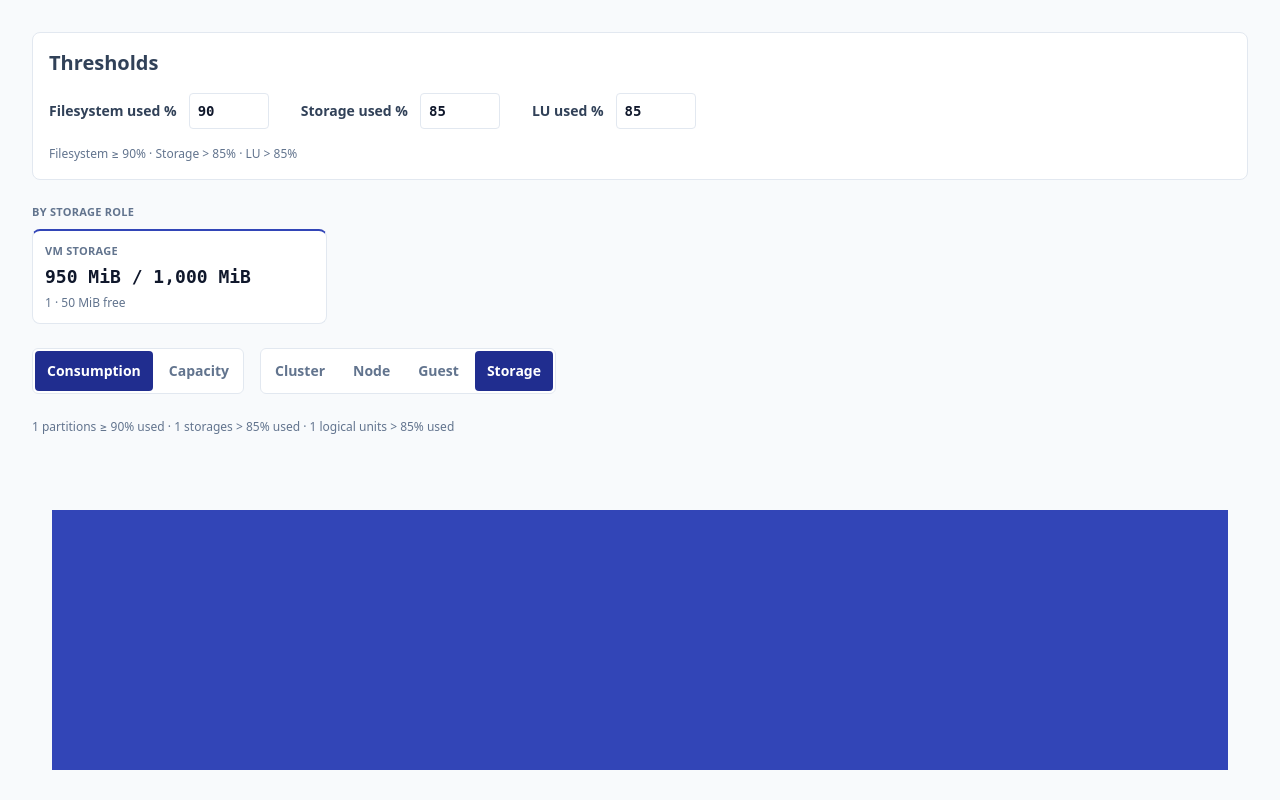
StorageView (D-05..D-08) › editing a threshold updates the factual count line (no second useMemo)
Replace the text in the number field labelled "Filesystem used %" with "50": (229, 111) [189,93,269,129]
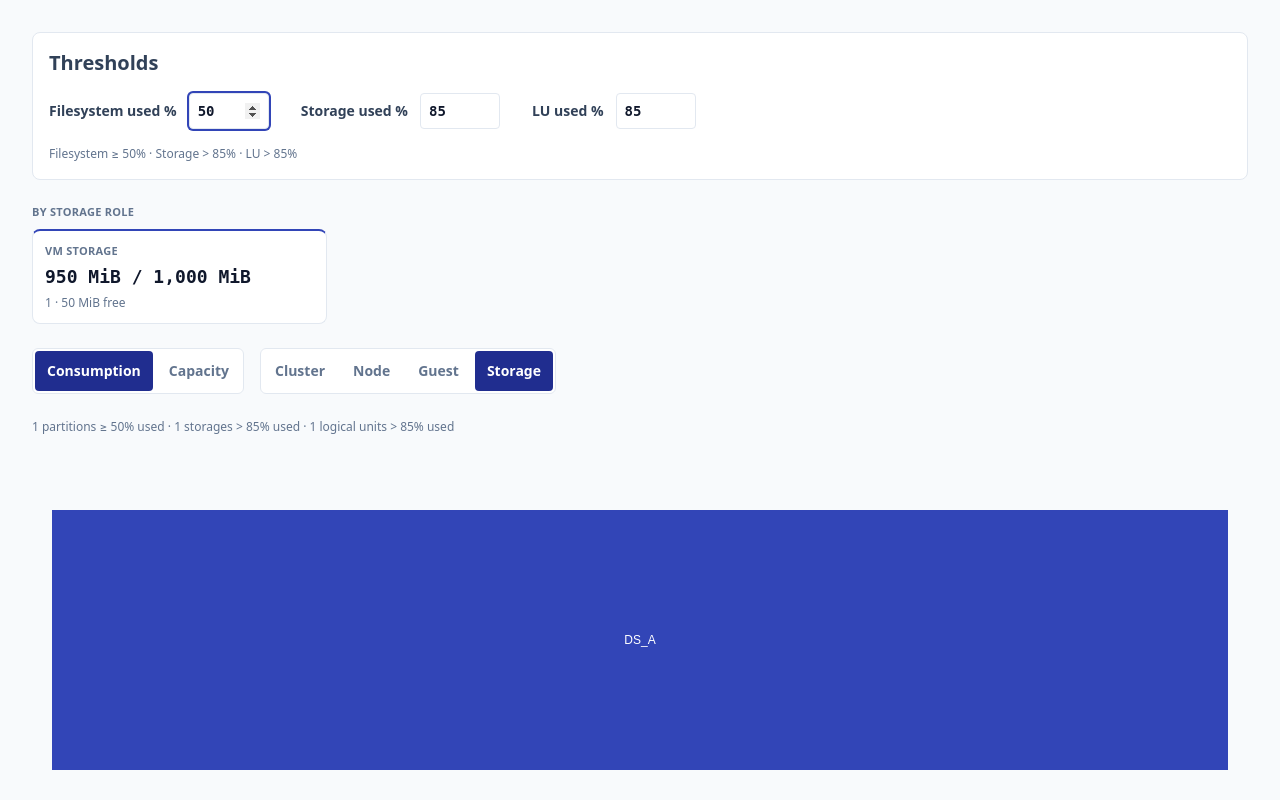
expect the text "partitions ≥ 50% used" is shown: met, box [32,418,165,435]
